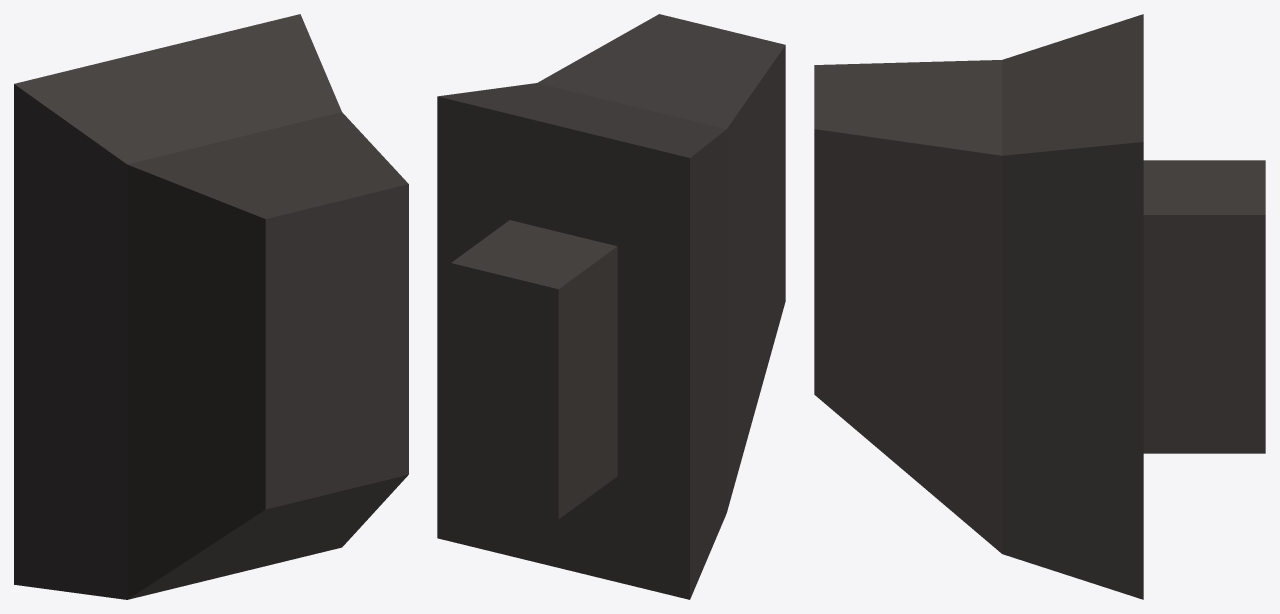
File: AssaultRifle3_03_3.fbx
The picture shows the model from 3 angles, left to right: view 1: azimuth 30°, elevation 25°; view 2: azimuth 150°, elevation 25°; view 3: azimuth 270°, elevation 25°; orthographic projection. The views are drawn at different scales.
Parts seen in each view (by area): view 1: AssaultRifle3_03_3; view 2: AssaultRifle3_03_3; view 3: AssaultRifle3_03_3.
Boxes of the visible parts, x1=… form: AssaultRifle3_03_3: x1=14, y1=14, x2=408, y2=599; AssaultRifle3_03_3: x1=437, y1=14, x2=785, y2=599; AssaultRifle3_03_3: x1=814, y1=14, x2=1265, y2=599.
Bounding box in the file's own units: 0.016 × 0.0267 × 0.0239.
